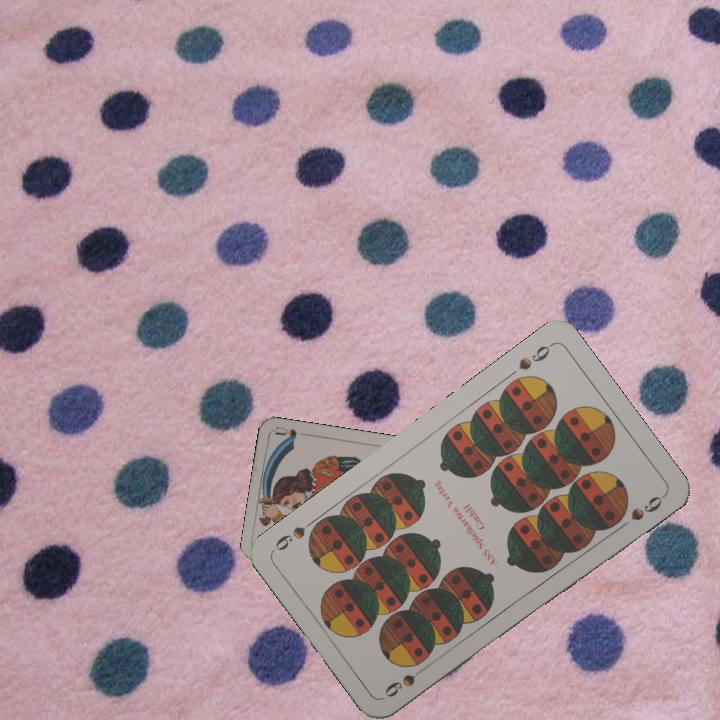S9: (380, 660, 432, 700), (514, 339, 555, 373)
